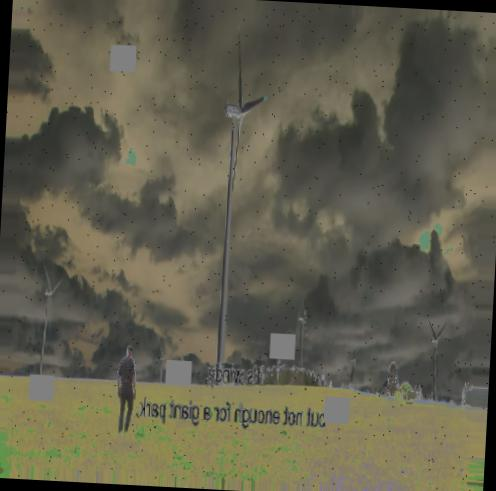wind turbine: (209, 39, 269, 378), (28, 263, 68, 380)
